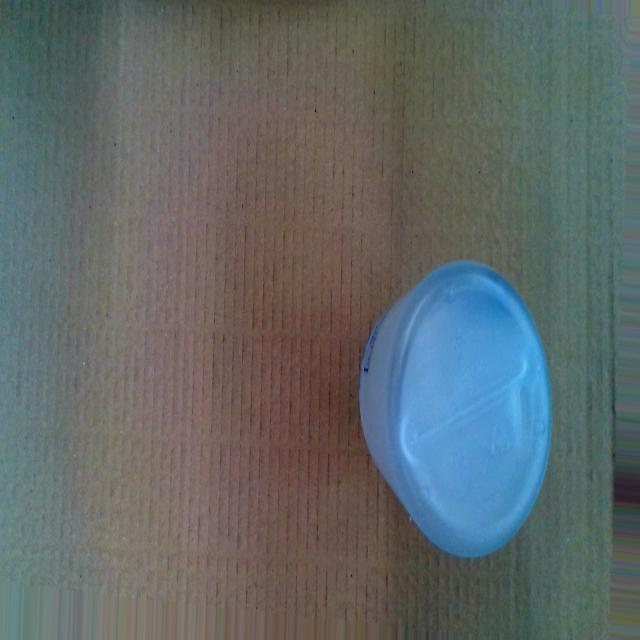bottle: (356, 257, 553, 562)
